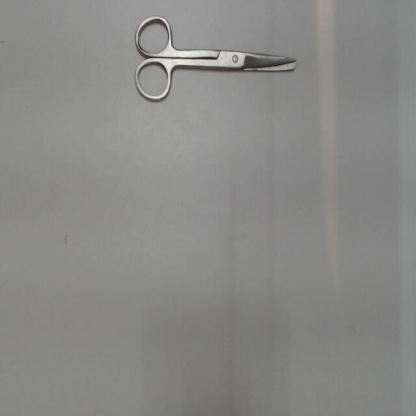Dressing Scissors: (126, 8, 306, 112)
